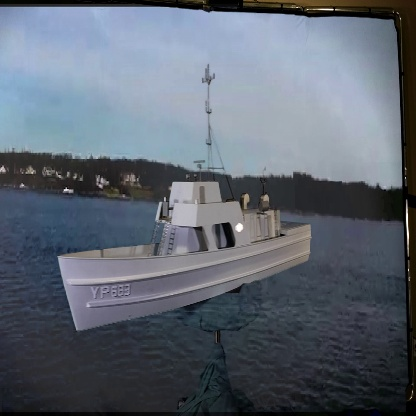YP689: (58, 65, 312, 334)
